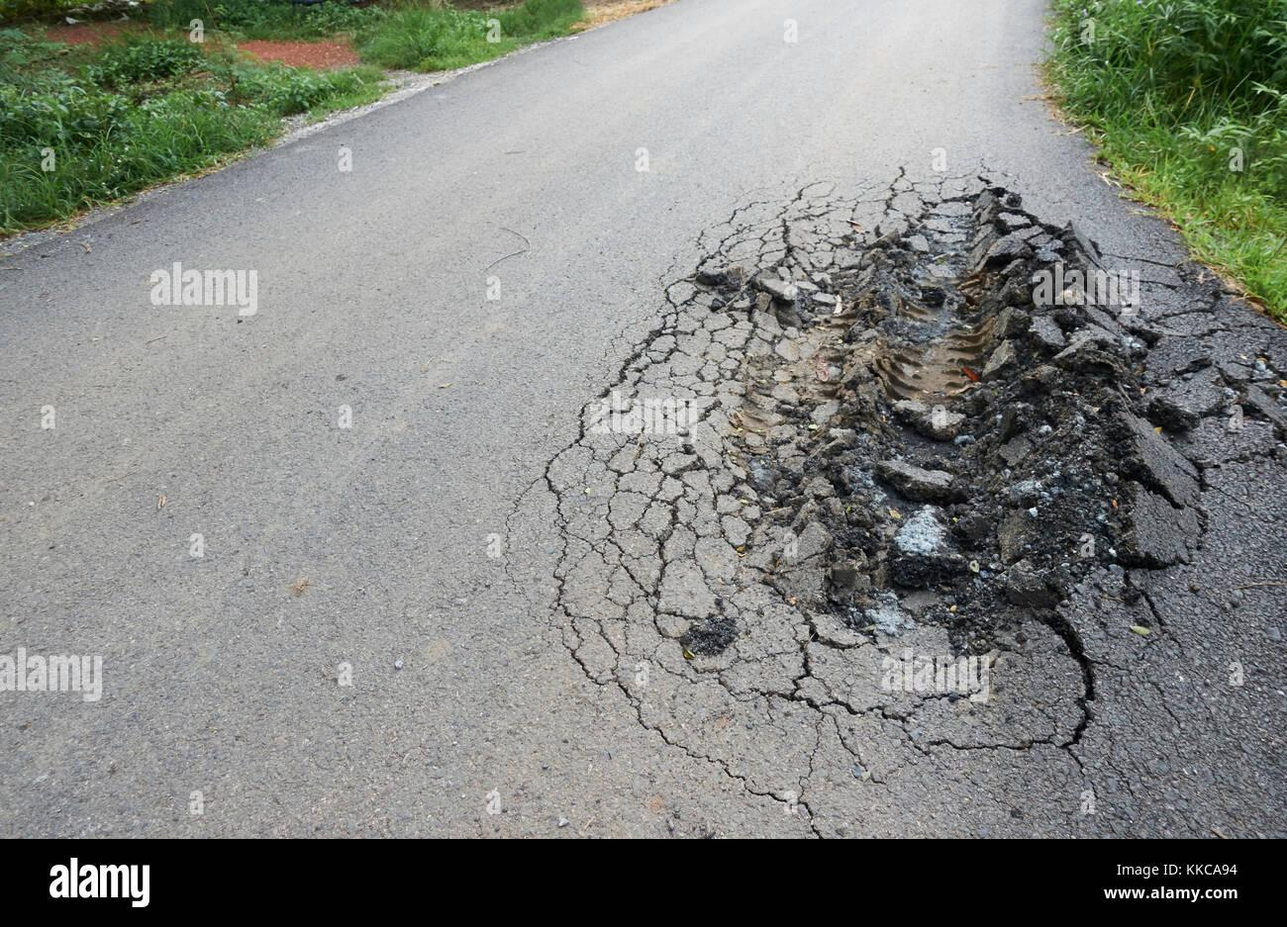pothole: (743, 188, 1133, 635)
